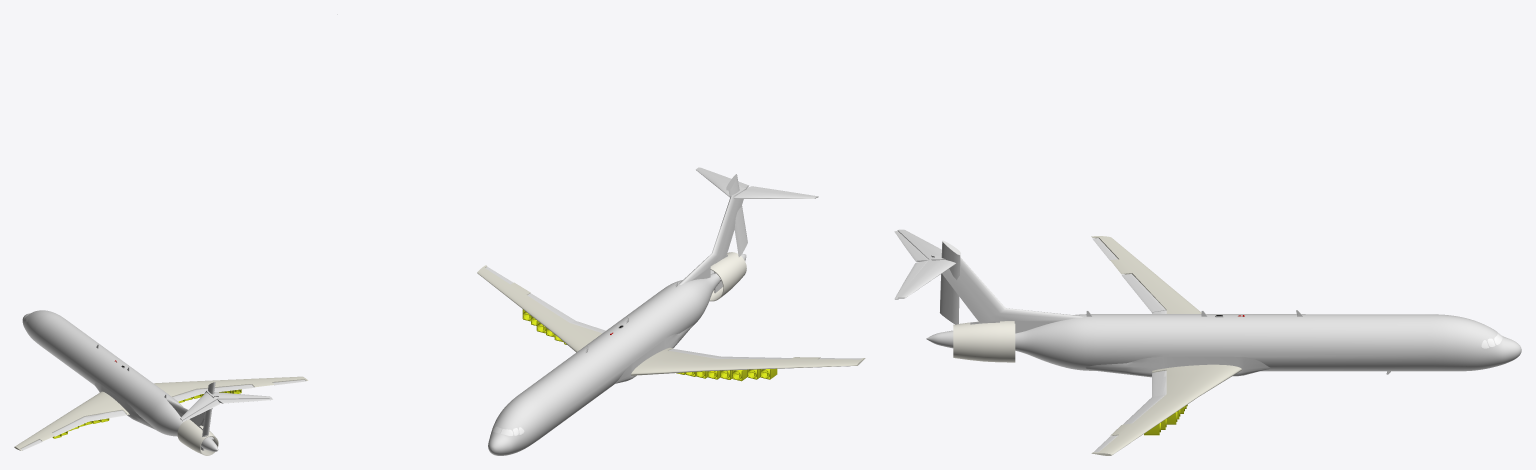
Rendered from wingEngine.gltf.
The picture shows the model from 3 angles, left to right: view 1: azimuth 30°, elevation 25°; view 2: azimuth 150°, elevation 25°; view 3: azimuth 270°, elevation 25°; orthographic projection. The views are drawn at different scales.
Visible parts, largest first — view 1: Cylinder, Cylinder.004, Cylinder.001, Cylinder.006, Cylinder.005; view 2: Cylinder, Cylinder.004, Cylinder.005, Cylinder.001, Cylinder.006, Cylinder.007; view 3: Cylinder, Cylinder.004, Cylinder.005, Cylinder.001, Cylinder.006, Cylinder.007.
Part boxes in pixels (<box>): Cylinder: <box>22,310,218,451</box>; Cylinder.004: <box>14,376,308,450</box>; Cylinder.001: <box>177,419,218,455</box>; Cylinder.006: <box>180,392,272,420</box>; Cylinder.005: <box>166,390,218,426</box>; Cylinder: <box>488,253,746,455</box>; Cylinder.004: <box>477,265,865,375</box>; Cylinder.005: <box>678,186,747,284</box>; Cylinder.001: <box>709,252,746,301</box>; Cylinder.006: <box>696,167,817,198</box>; Cylinder.007: <box>726,174,747,256</box>; Cylinder: <box>926,314,1521,377</box>; Cylinder.004: <box>1091,236,1241,455</box>; Cylinder.005: <box>931,255,1083,333</box>; Cylinder.001: <box>953,321,1015,362</box>; Cylinder.006: <box>897,229,955,298</box>; Cylinder.007: <box>939,240,960,324</box>.
Size of the model in its own units: 34.84 by 34.67 by 42.54.
